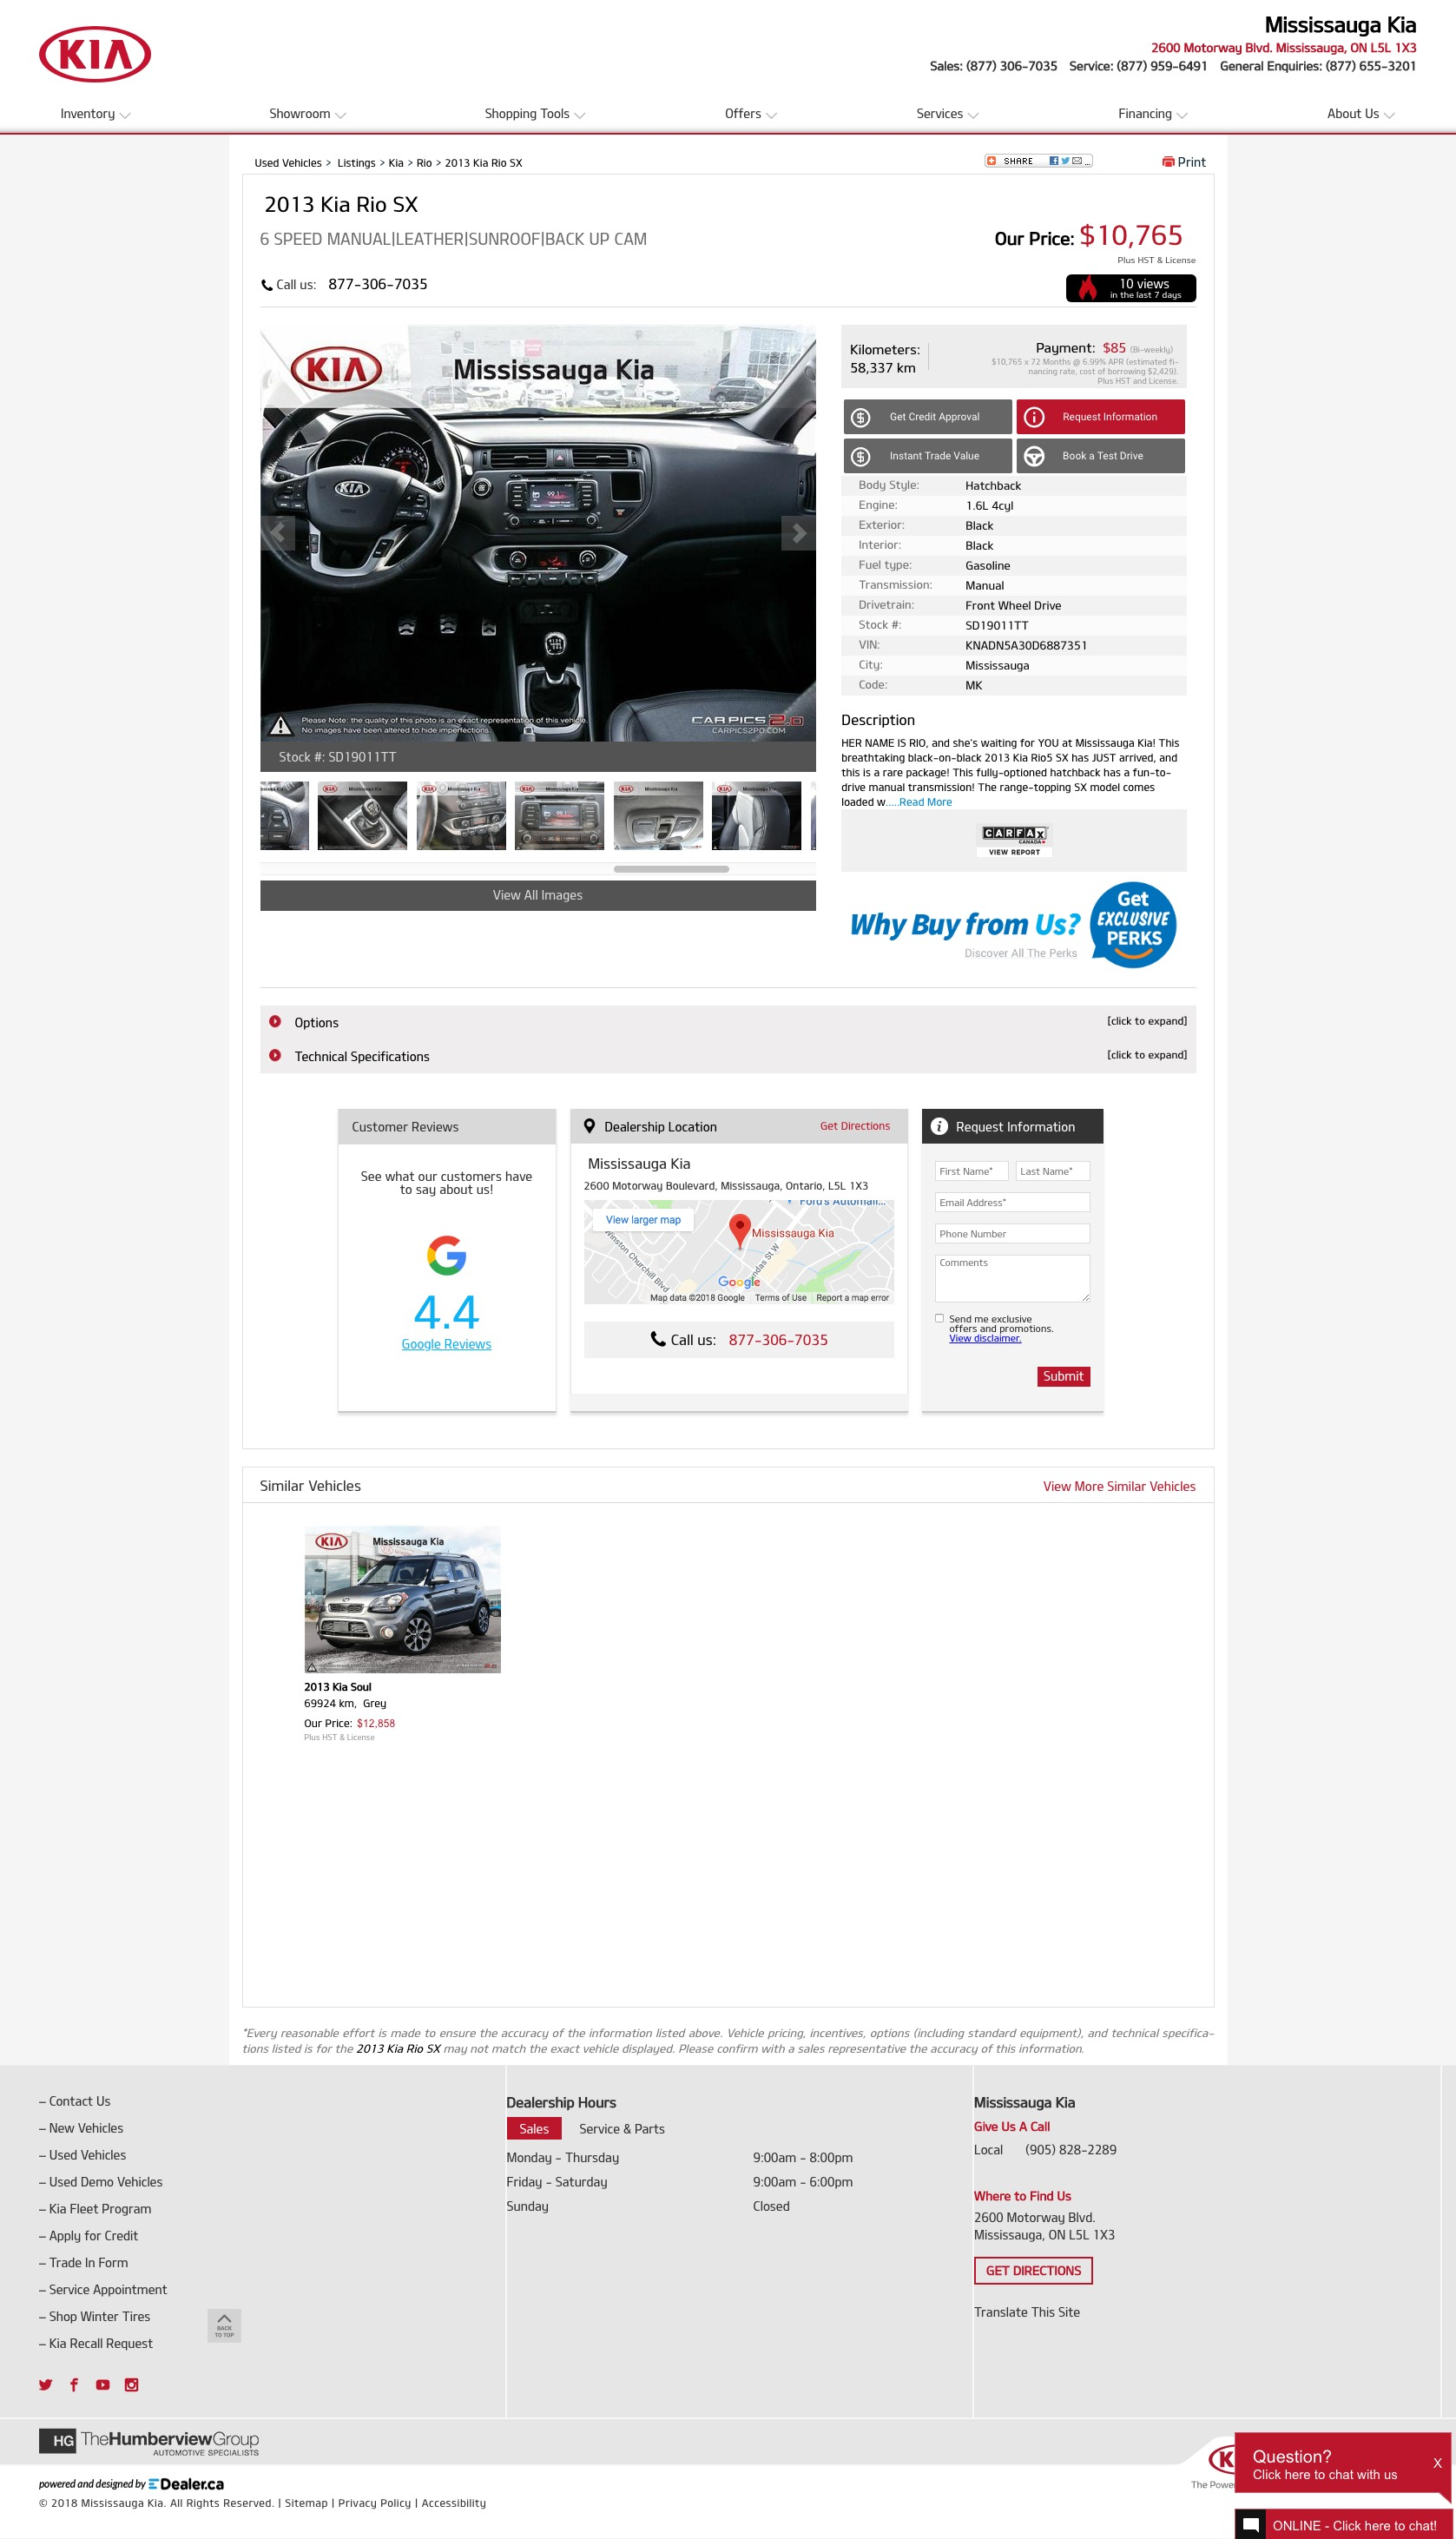car: (792, 523, 809, 544)
